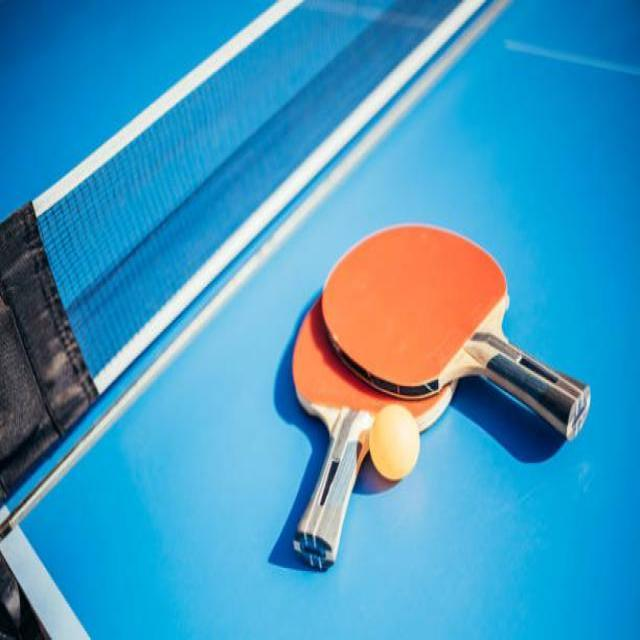oball: (369, 403, 416, 476)
